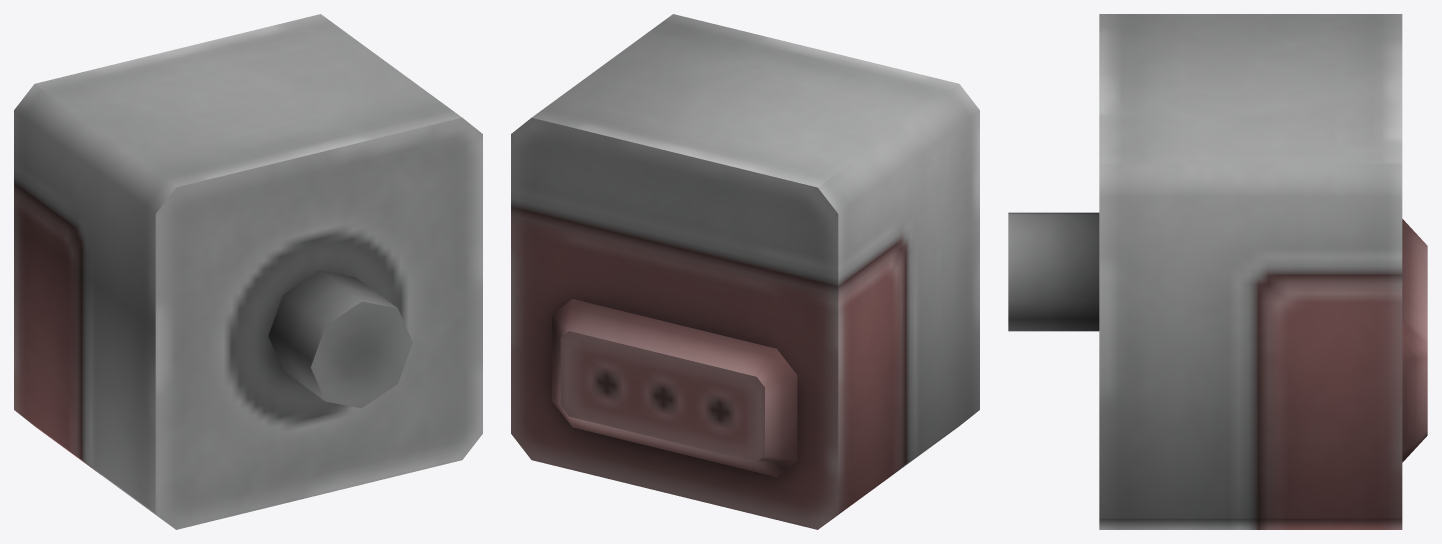
Rendered from Ara_SensorThermometer_1.obj.
The picture shows the model from 3 angles, left to right: view 1: azimuth 30°, elevation 25°; view 2: azimuth 150°, elevation 25°; view 3: azimuth 270°, elevation 25°; orthographic projection. The views are drawn at different scales.
Visible parts, largest first — view 1: Ara_SensorThermometer_1; view 2: Ara_SensorThermometer_1; view 3: Ara_SensorThermometer_1.
Boxes of the visible parts, left/top/right/bottom form: Ara_SensorThermometer_1: left=14, top=14, right=482, bottom=529; Ara_SensorThermometer_1: left=511, top=14, right=979, bottom=529; Ara_SensorThermometer_1: left=1008, top=14, right=1427, bottom=529.
Size of the model in its own units: 0.2 by 0.2 by 0.2075.
